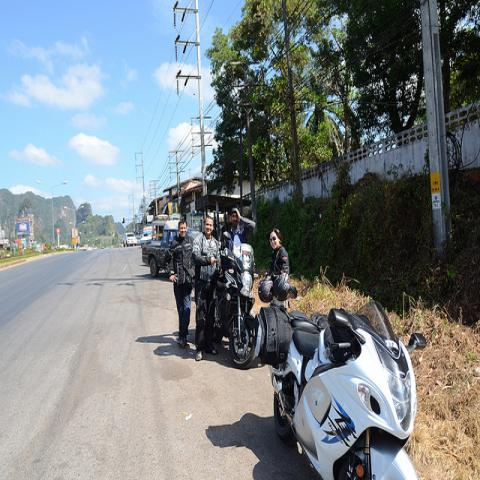car: (140, 226, 153, 247), (122, 234, 138, 247)
motorcycle: (256, 304, 428, 479), (218, 243, 259, 366)
truck: (142, 221, 180, 277)
